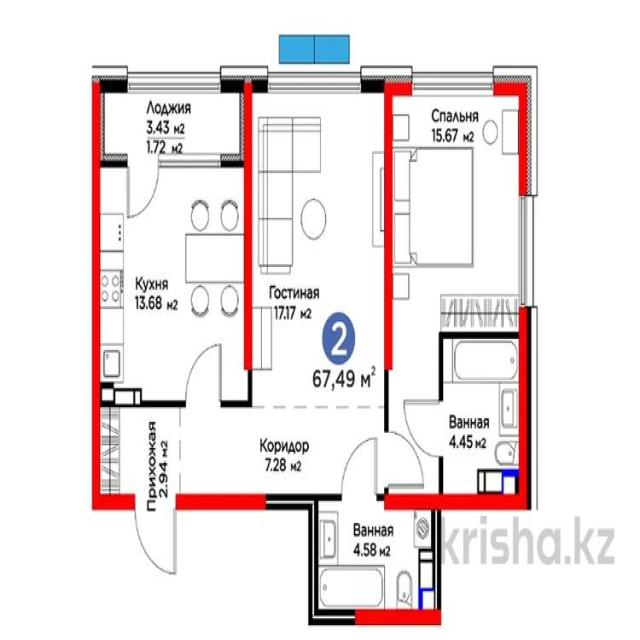balcony: (97, 84, 242, 159)
bathroom: (313, 508, 438, 618), (442, 336, 526, 496)
hallway: (183, 405, 383, 504), (98, 406, 184, 502)
kitchen: (95, 160, 248, 403)
living_room: (251, 93, 385, 404), (390, 85, 520, 328)
